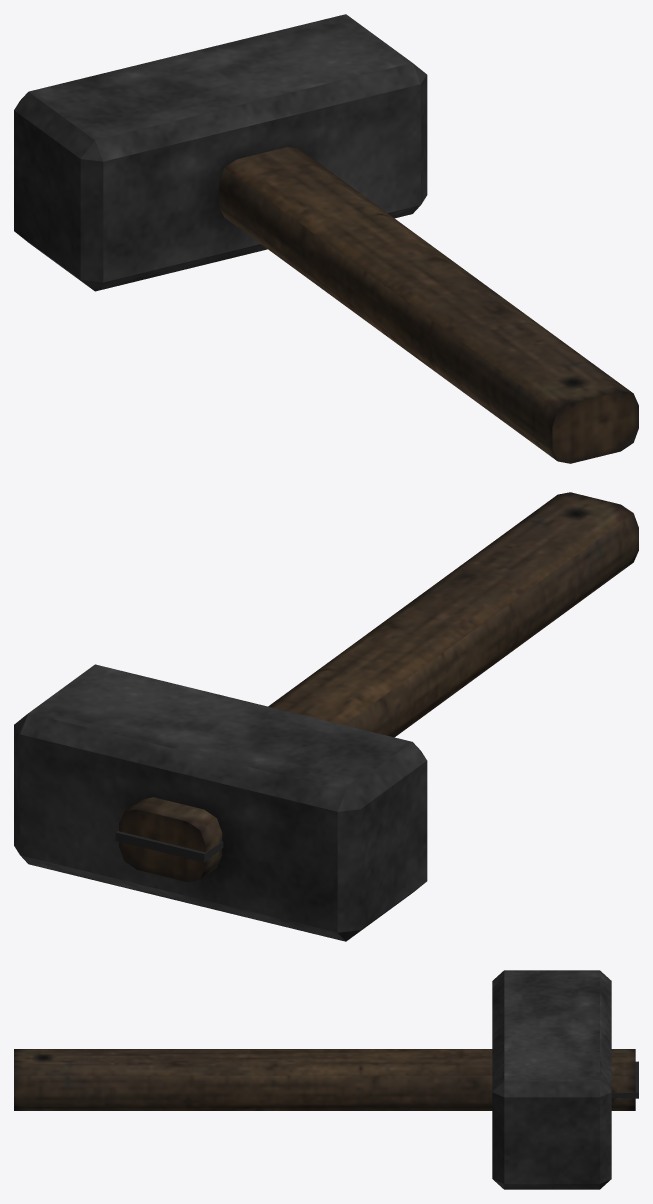
The model's file is hammer_mx_1_1.obj.
3 views of the same model, one above another, from view 1: azimuth 30°, elevation 25°; view 2: azimuth 150°, elevation 25°; view 3: azimuth 270°, elevation 25° (orthographic). The views are drawn at different scales.
Visible parts, largest first — view 1: hammer_mx_1_1; view 2: hammer_mx_1_1; view 3: hammer_mx_1_1.
Part boxes in pixels (bbox=[...]): hammer_mx_1_1: bbox=[14, 14, 638, 463]; hammer_mx_1_1: bbox=[14, 492, 638, 941]; hammer_mx_1_1: bbox=[14, 970, 638, 1189].
Bounding box in the file's own units: 0.24 × 0.1 × 0.5227.
